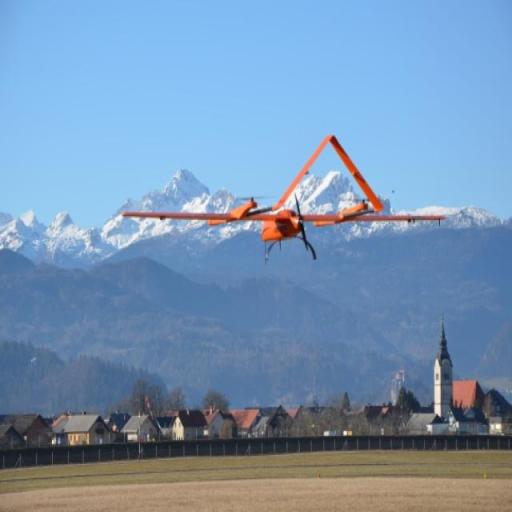uav: (113, 130, 460, 260)
